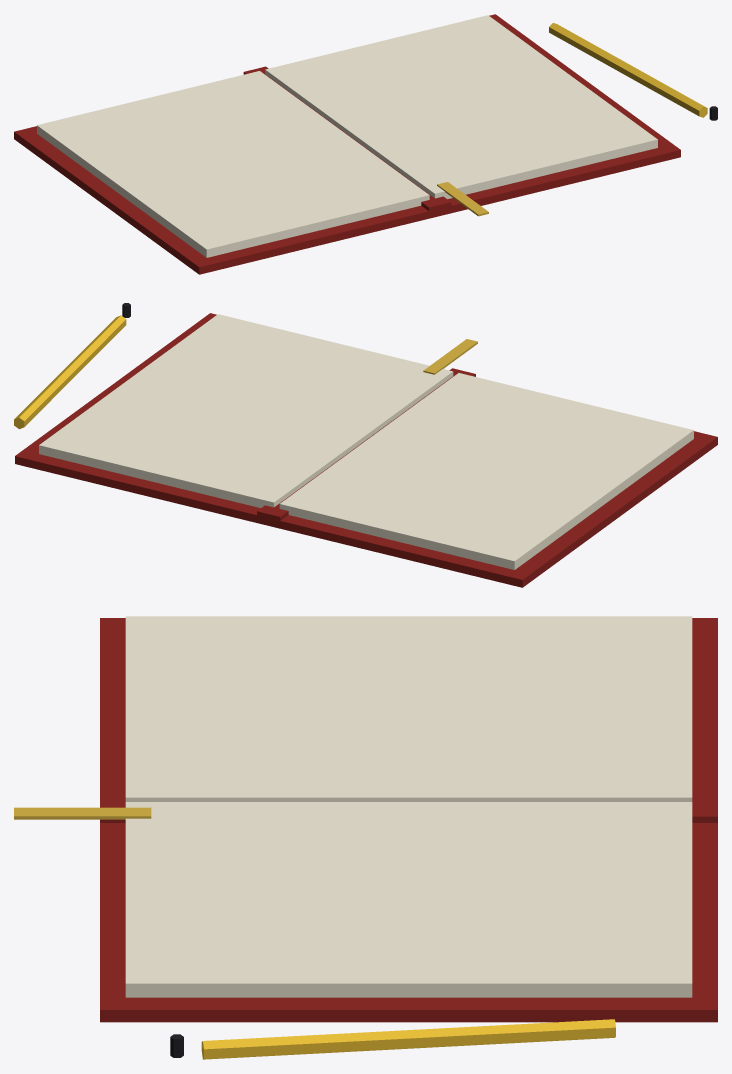
File: room.notebook.glb
3 renders of one model, top to bottom at view 1: azimuth 30°, elevation 25°; view 2: azimuth 150°, elevation 25°; view 3: azimuth 270°, elevation 25°, orthographic. The views are drawn at different scales.
Visible parts, largest first — view 1: pages-1, pages1, cover-1, cover1, pencil, spine, ribbon; view 2: pages-1, pages1, cover-1, cover1, pencil, spine, ribbon; view 3: pages1, pages-1, cover1, cover-1, pencil, ribbon, spine.
Part boxes in pixels (bbox=[...]): pages-1: bbox=[37, 71, 429, 257]; pages1: bbox=[265, 15, 657, 199]; cover-1: bbox=[14, 126, 439, 274]; cover1: bbox=[440, 14, 680, 215]; pencil: bbox=[549, 23, 707, 117]; spine: bbox=[243, 66, 451, 218]; ribbon: bbox=[437, 182, 488, 216]; pages-1: bbox=[279, 373, 693, 569]; pages1: bbox=[39, 314, 453, 507]; cover-1: bbox=[268, 431, 717, 587]; cover1: bbox=[15, 313, 268, 525]; pencil: bbox=[14, 315, 126, 429]; spine: bbox=[257, 368, 475, 528]; ribbon: bbox=[423, 339, 477, 374]; pages1: bbox=[125, 802, 692, 997]; pages-1: bbox=[125, 616, 692, 801]; cover1: bbox=[100, 823, 717, 1022]; cover-1: bbox=[100, 618, 717, 798]; pencil: bbox=[201, 1019, 615, 1059]; ribbon: bbox=[14, 807, 151, 819]; spine: bbox=[100, 798, 717, 822].
Size of the model in its own units: 0.6065 by 0.02 by 0.41.
